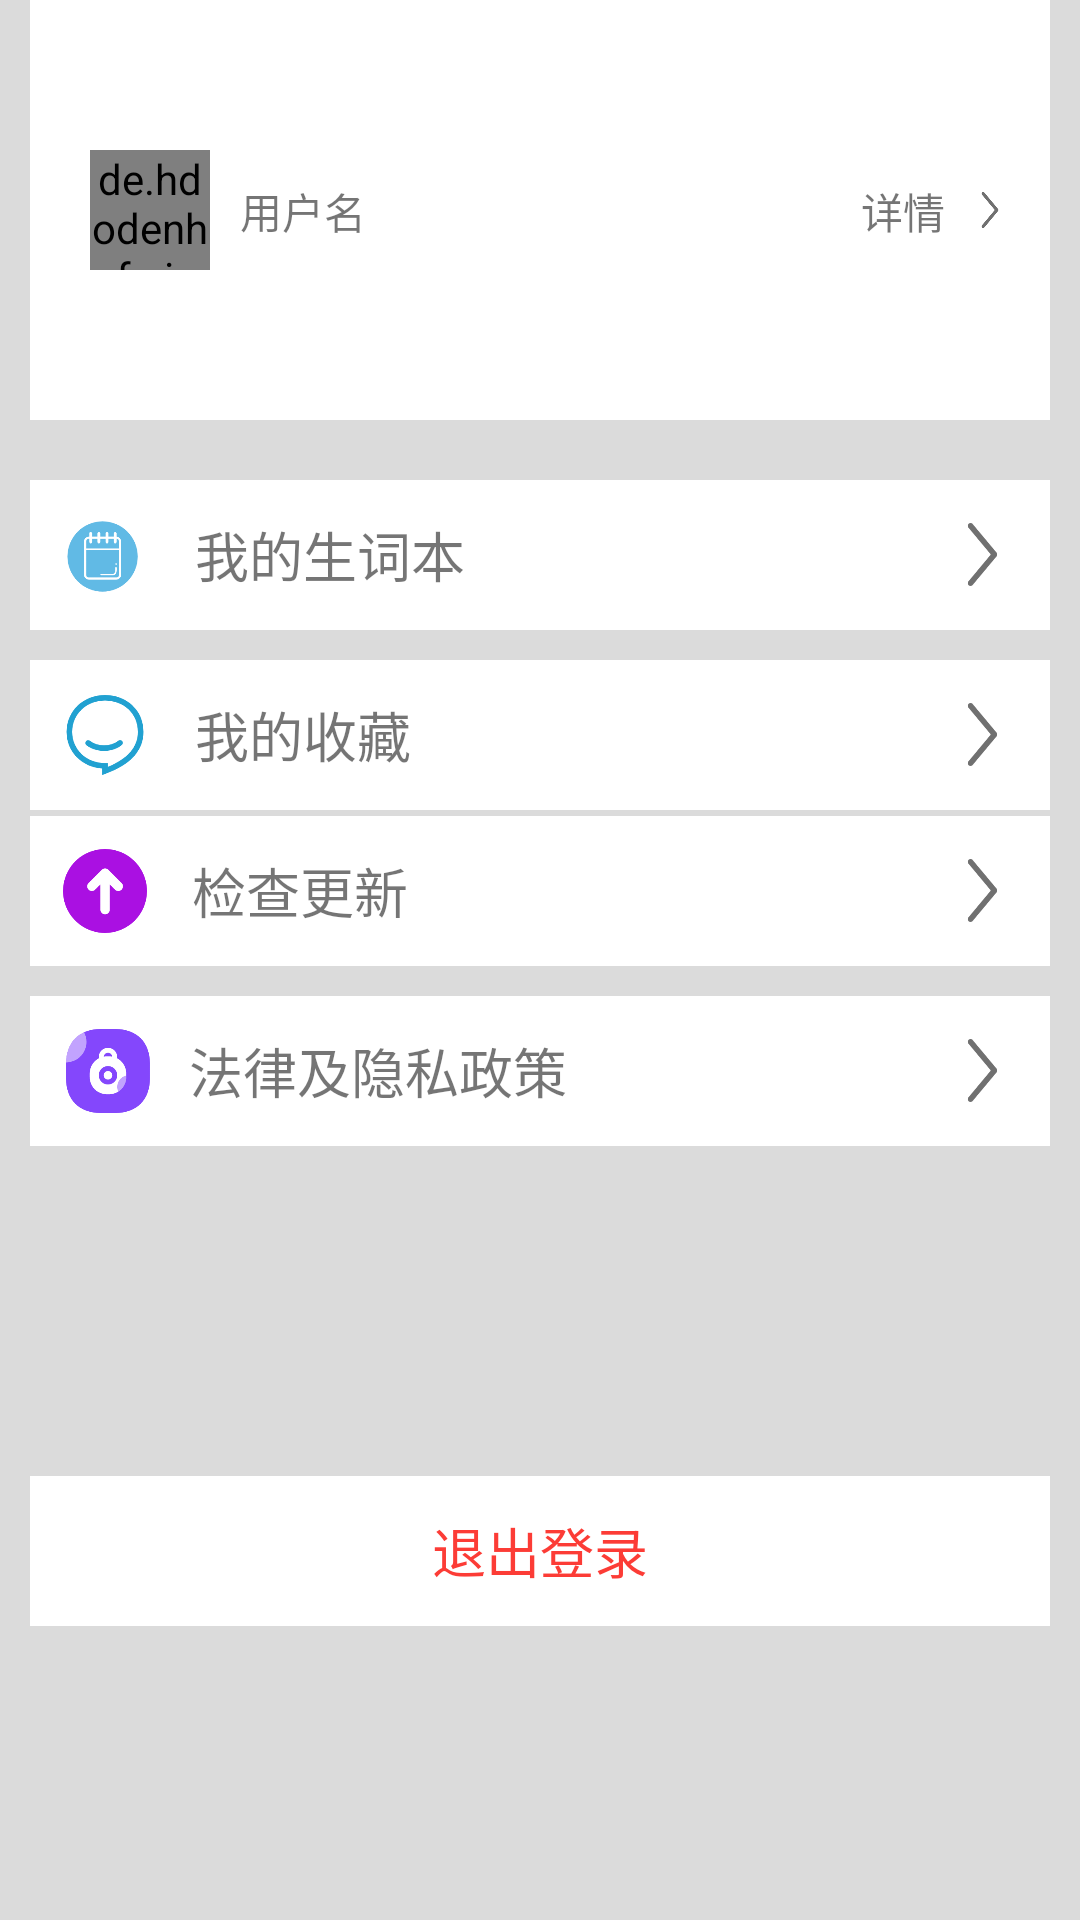

Icon click points for this 1080px x 1920px phone screenshot, format [x,y]:
gengxin: [105,891]
luntan: [105,735]
shengci: [102,556]
youjiantou: [989,210], [982,554], [982,734], [982,890], [982,1070]
